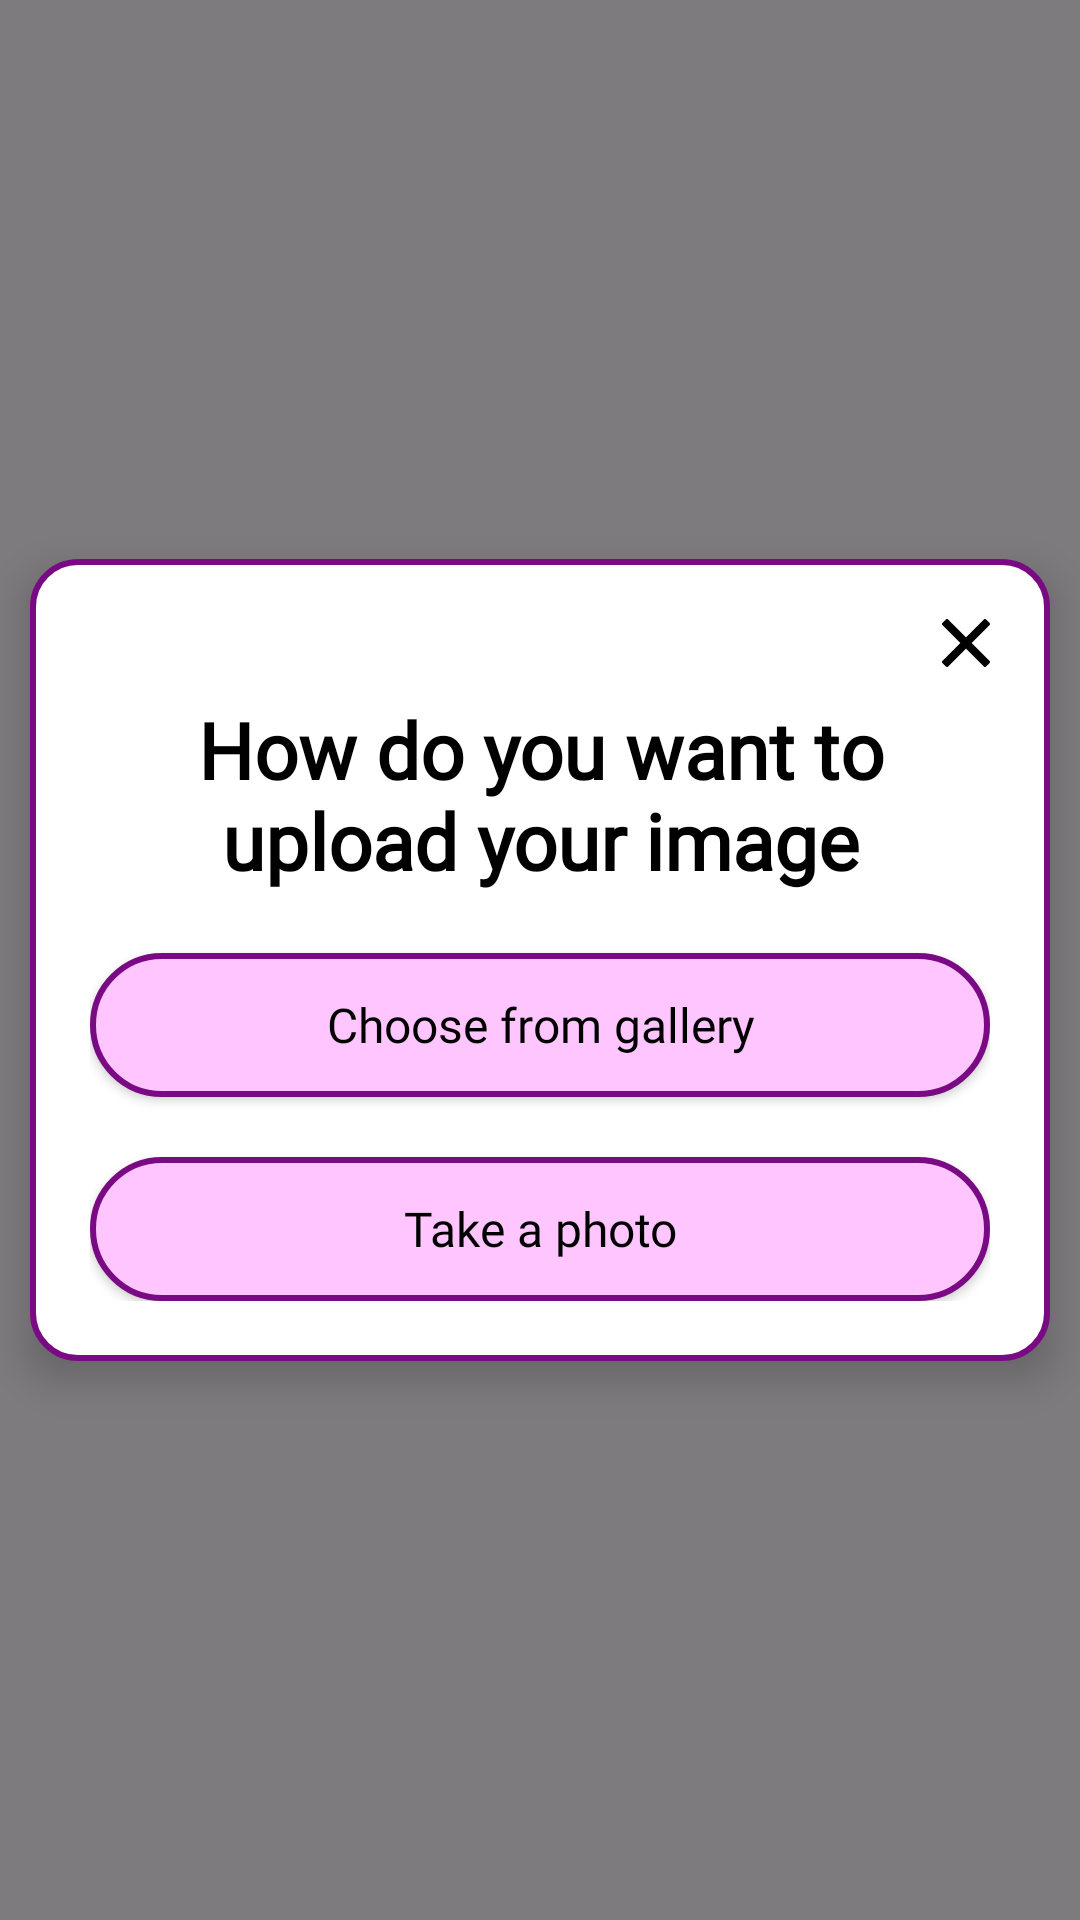

Icons on this 1080 x 1920 Android screen, each with the point to tap as point (x, y):
quit: point (966, 643)
